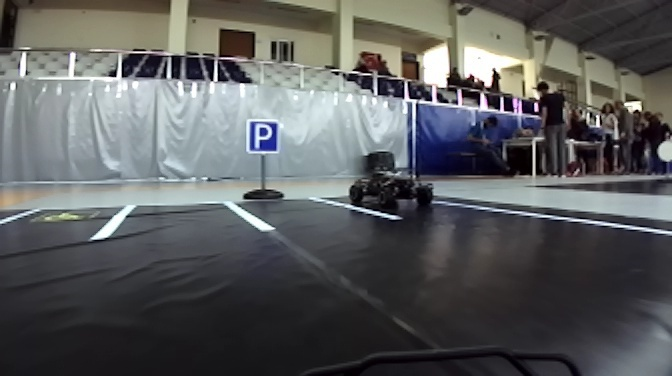park: (245, 116, 284, 157)
